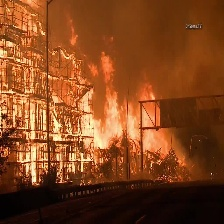fire: (1, 2, 189, 188)
